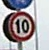limite 10: (9, 11, 35, 42)
